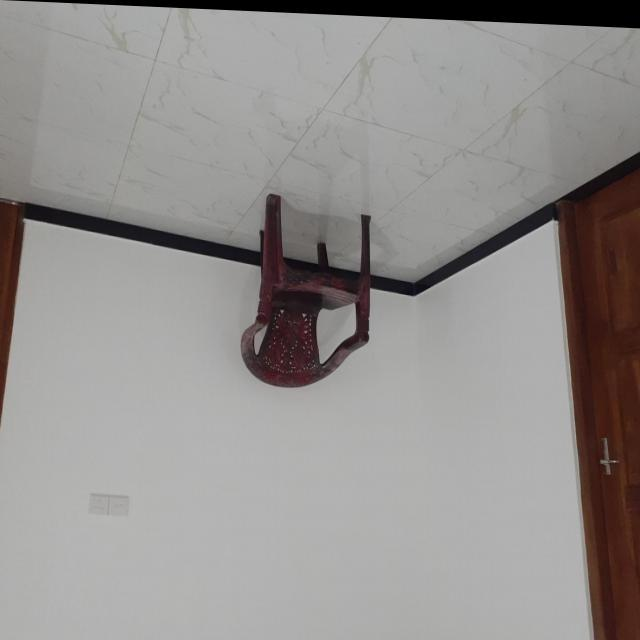Chair: (241, 188, 375, 389)
